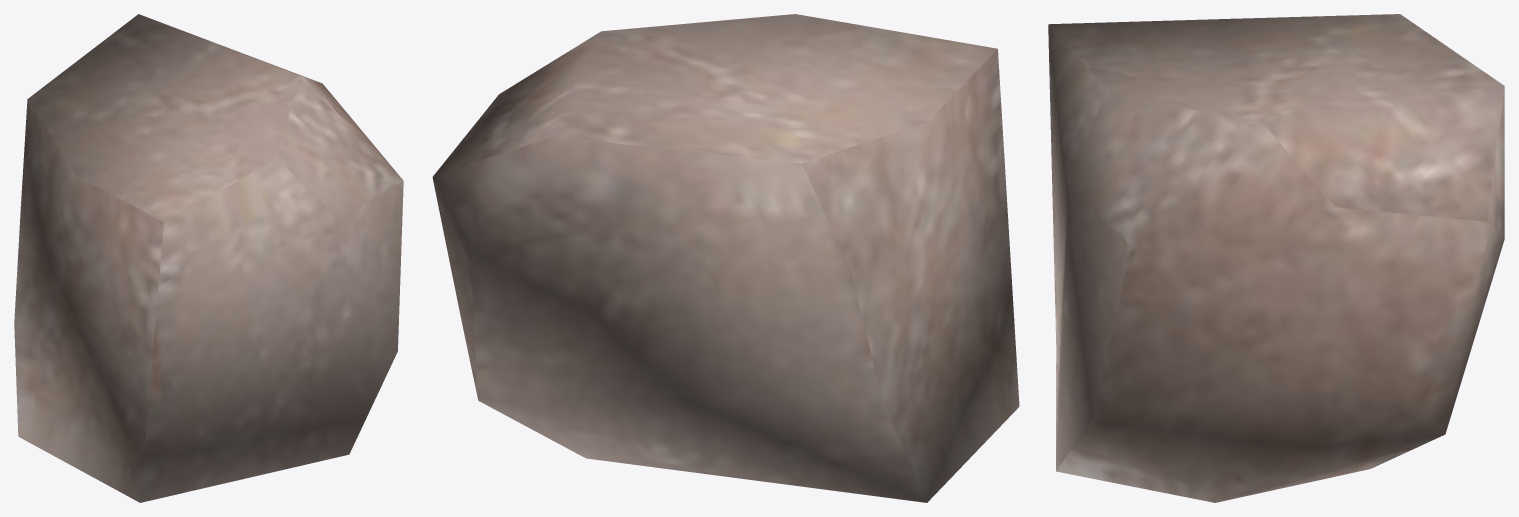
File: Q_Limestone_5.fbx
The picture shows the model from 3 angles, left to right: view 1: azimuth 30°, elevation 25°; view 2: azimuth 150°, elevation 25°; view 3: azimuth 270°, elevation 25°; orthographic projection. The views are drawn at different scales.
Parts seen in each view (by area): view 1: Aset_rock_rough_S_udqhfcyva_02_LOD8; view 2: Aset_rock_rough_S_udqhfcyva_02_LOD8; view 3: Aset_rock_rough_S_udqhfcyva_02_LOD8.
Part boxes in pixels (box(x1,y1,x2,y2)): Aset_rock_rough_S_udqhfcyva_02_LOD8: box(14, 14, 403, 502); Aset_rock_rough_S_udqhfcyva_02_LOD8: box(432, 14, 1019, 502); Aset_rock_rough_S_udqhfcyva_02_LOD8: box(1048, 14, 1504, 502).
Size of the model in its own units: 2.97 by 2.73 by 3.03.
Materials: 1 (1 with a texture image).
